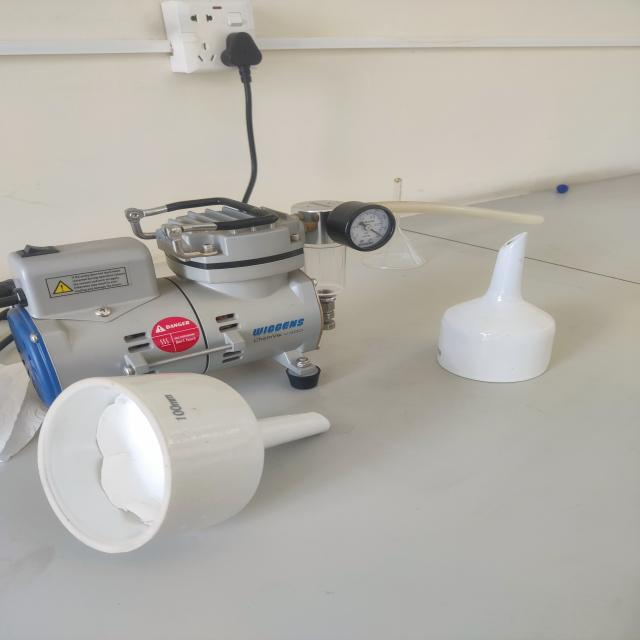Buchner_Funnel: (18, 333, 360, 569), (410, 217, 584, 400)
